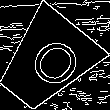O_SW: (13, 29, 80, 95)
